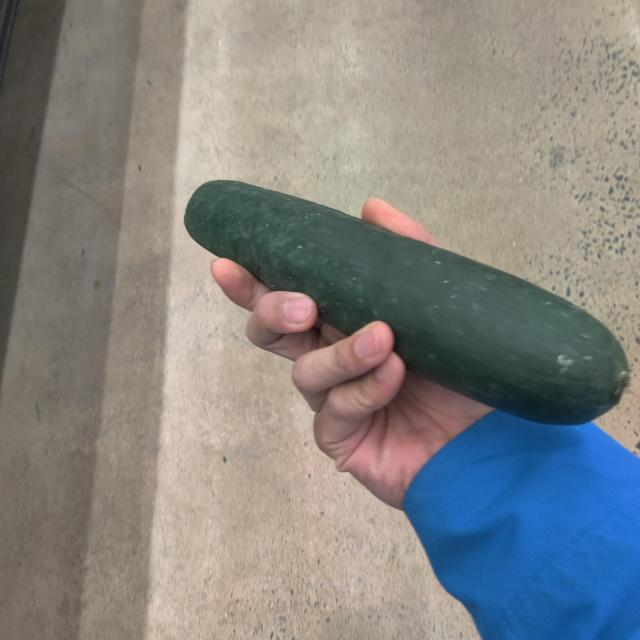Cucumber: (186, 177, 634, 427)
